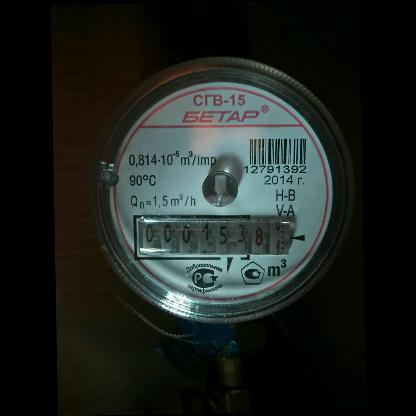digital_screen: (130, 213, 234, 261)
